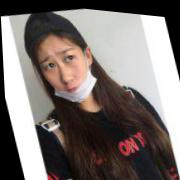WRONG: (33, 33, 97, 107)
